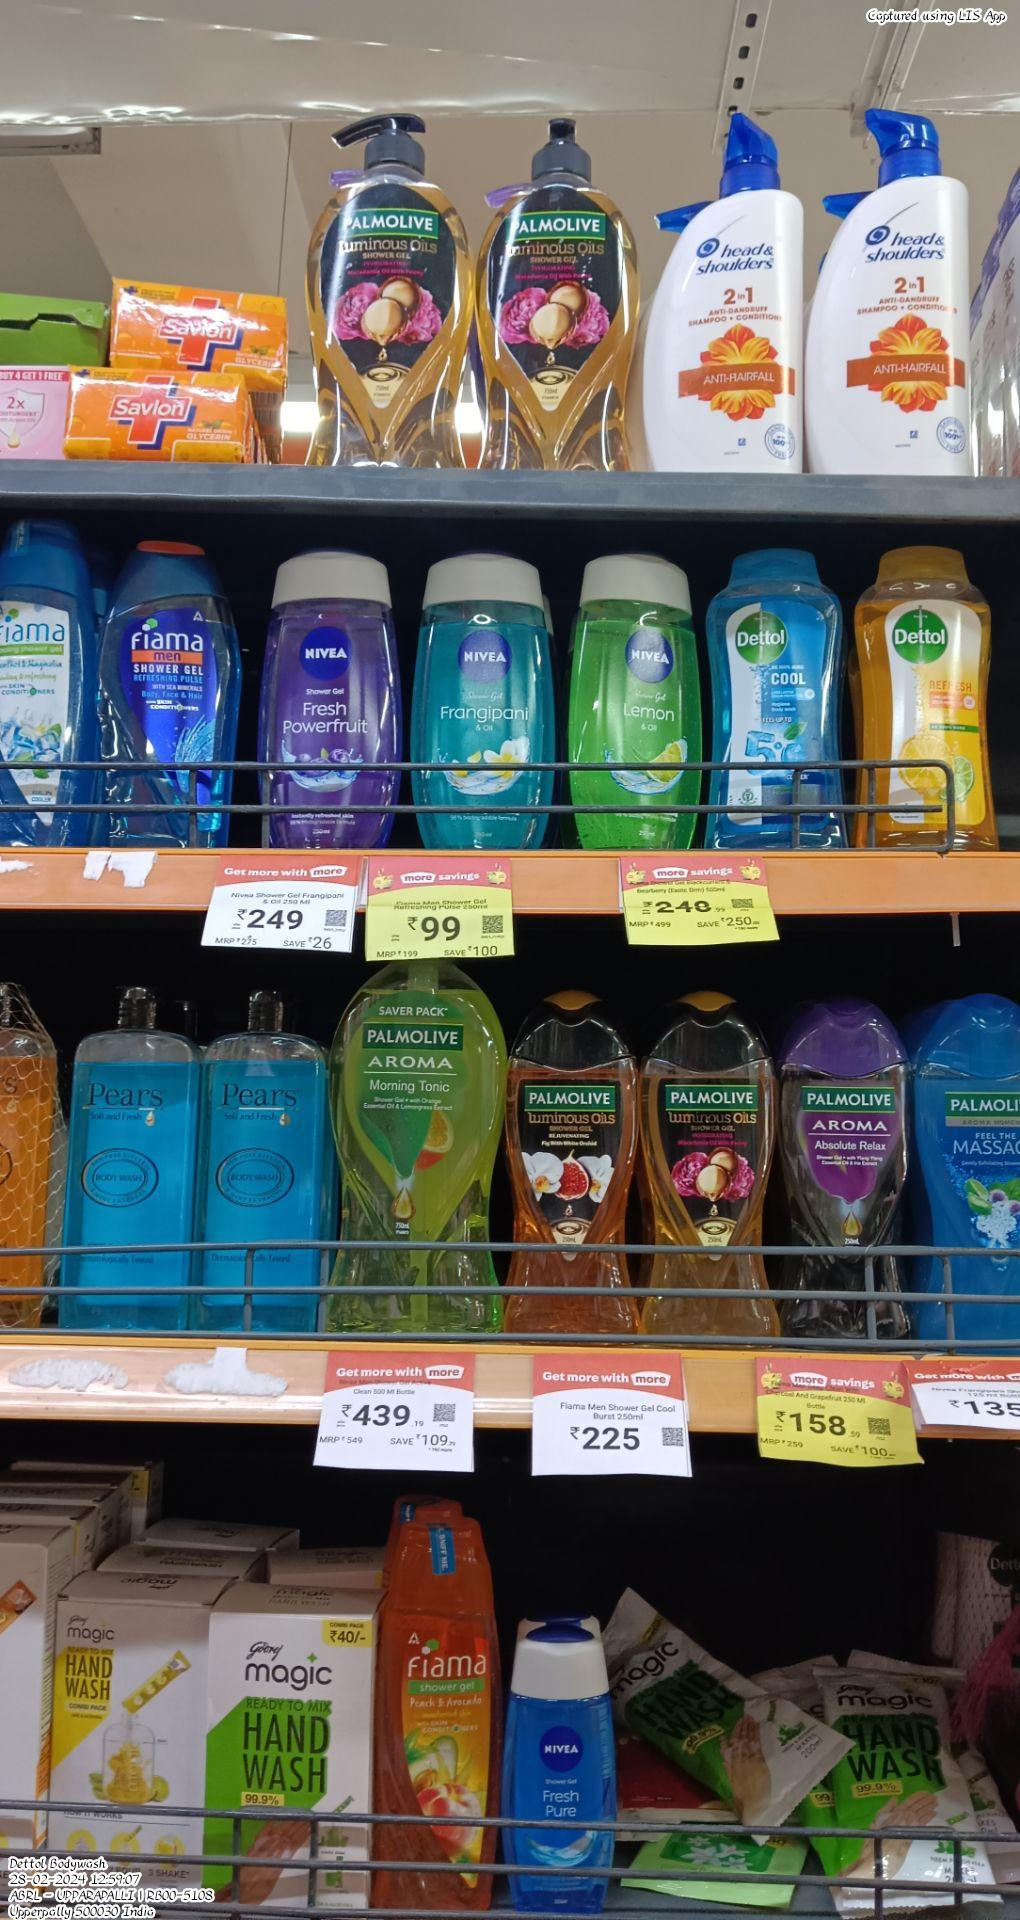Dettol_Bodywash_Cool: (714, 545, 838, 852)
Dettol_Bodywash_Refresh: (860, 545, 993, 857)
Nivea_Shower_Gel_Frangipani_and_Oil_250ML: (412, 549, 550, 853)
Nivea_Shower_Gel_Fresh_Powerfruit_250ML: (262, 549, 401, 855)
Nivea_Shower_Gel_Lemon_and_Oil_250ML: (578, 550, 704, 853)
Palmolive_Aroma_Moments_Feel_The_Massage_Shower_Gel_250ML: (913, 983, 1020, 1364)
Palmolive_Aroma_Relax_250ML: (776, 1002, 907, 1354)
Palmolive_Luminous_Oils_Invigorating_Macadamia_Oil_With_Peony_250ML: (644, 983, 775, 1349)
Palmolive_Luminous_Oils_With_White_Orchid_Shower_Gel_250ML: (506, 988, 635, 1352)
Pears_Pure_Glycerin_and_Mint_Extracts_Body_Wash_250ML: (203, 985, 330, 1342), (71, 987, 191, 1340)
